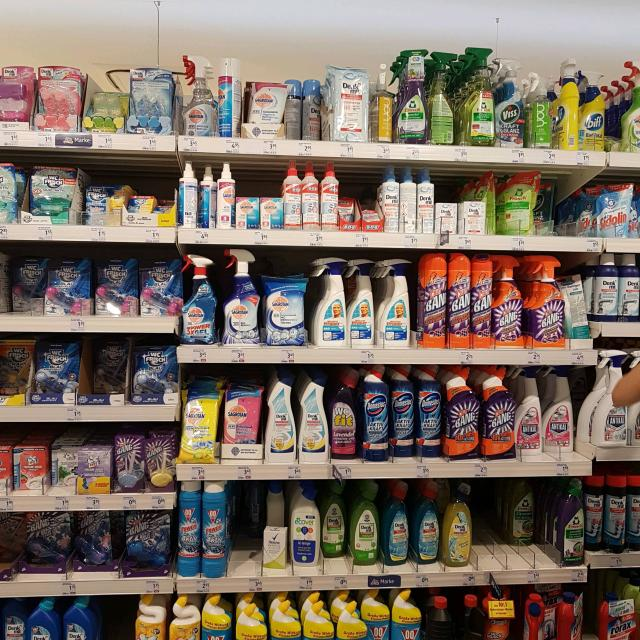void: (478, 480, 507, 570)
